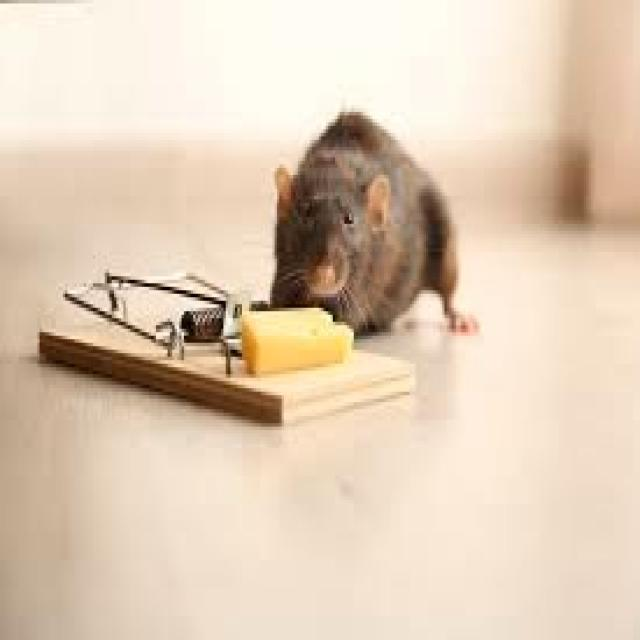rat: (270, 112, 475, 332)
